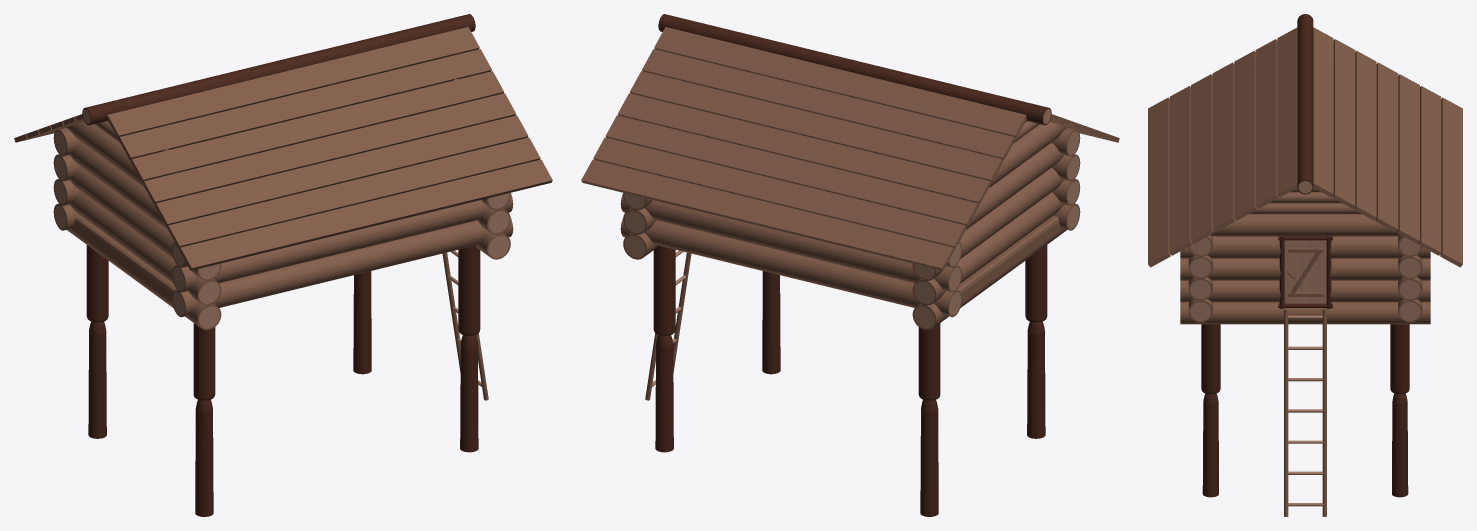
Rendered from Sarma.fbx.
3 views of the same model, side by side, from view 1: azimuth 30°, elevation 25°; view 2: azimuth 150°, elevation 25°; view 3: azimuth 270°, elevation 25° (orthographic). The views are drawn at different scales.
Parts seen in each view (by area): view 1: Sarma; view 2: Sarma; view 3: Sarma.
Boxes of the visible parts, <box> form: Sarma: <box>14,14,552,516</box>; Sarma: <box>581,14,1119,516</box>; Sarma: <box>1148,14,1462,516</box>.
Bounding box in the file's own units: 162 × 151 × 128.
